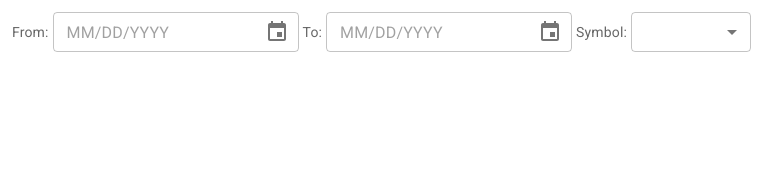
Test case: HistoryFilters › renders empty symbol options when no trades
Click the dropdown.
click(691, 32)  # box [631,12,751,52]
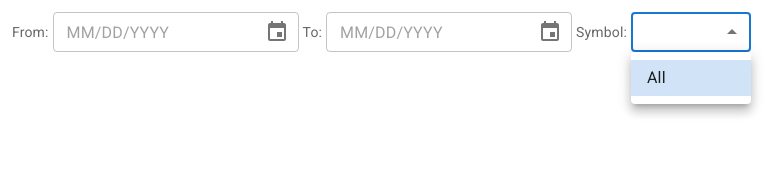
Expected: the number of options is 1, [631,60,751,96]
